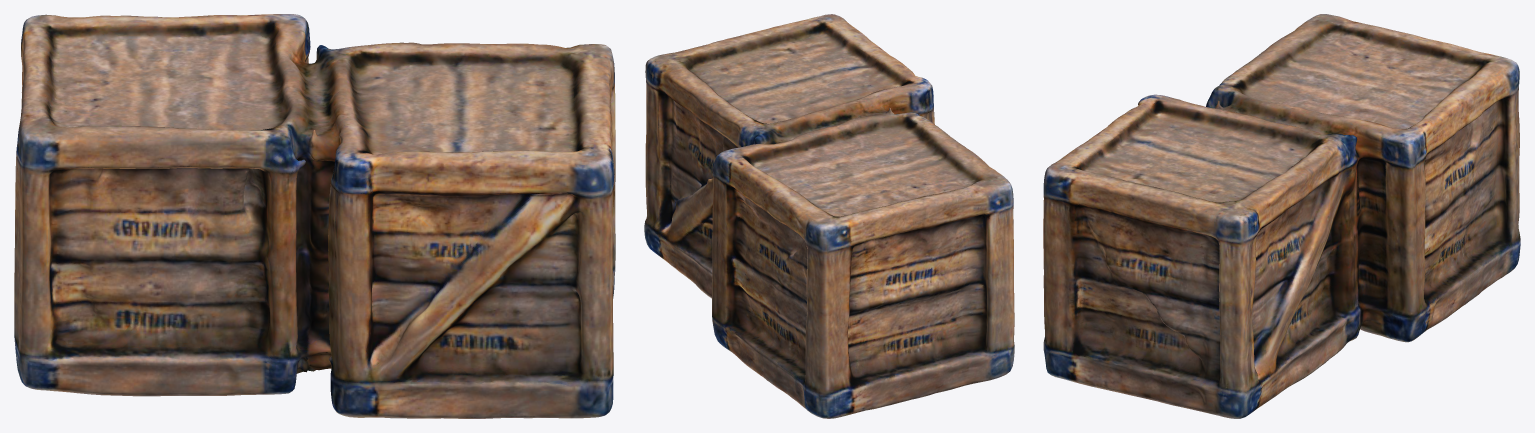
The model's file is adjacentCrates.glb.
3 renders of one model, left to right at view 1: azimuth 30°, elevation 25°; view 2: azimuth 150°, elevation 25°; view 3: azimuth 270°, elevation 25°, orthographic. The views are drawn at different scales.
Visible parts, largest first — view 1: high_poly; view 2: high_poly; view 3: high_poly.
Boxes of the visible parts, x1,y1,x2,y2 form: high_poly: [14, 14, 615, 418]; high_poly: [644, 14, 1014, 418]; high_poly: [1043, 14, 1520, 418].
Bounding box in the file's own units: 1 × 0.4656 × 0.9604.
1 material, 1 textured.
